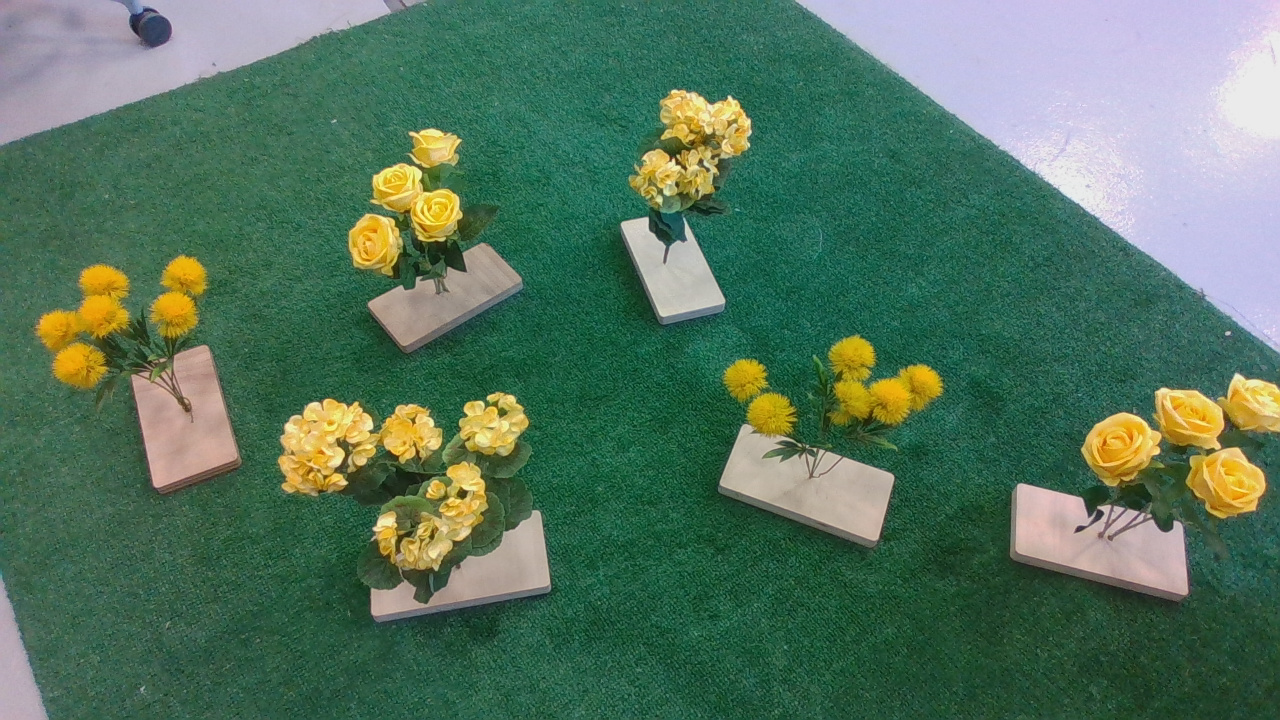dandelion: (711, 338, 954, 472), (36, 249, 229, 411)
geranium: (266, 393, 547, 610), (626, 78, 765, 254)
rose: (1081, 336, 1280, 542), (338, 121, 511, 299)
